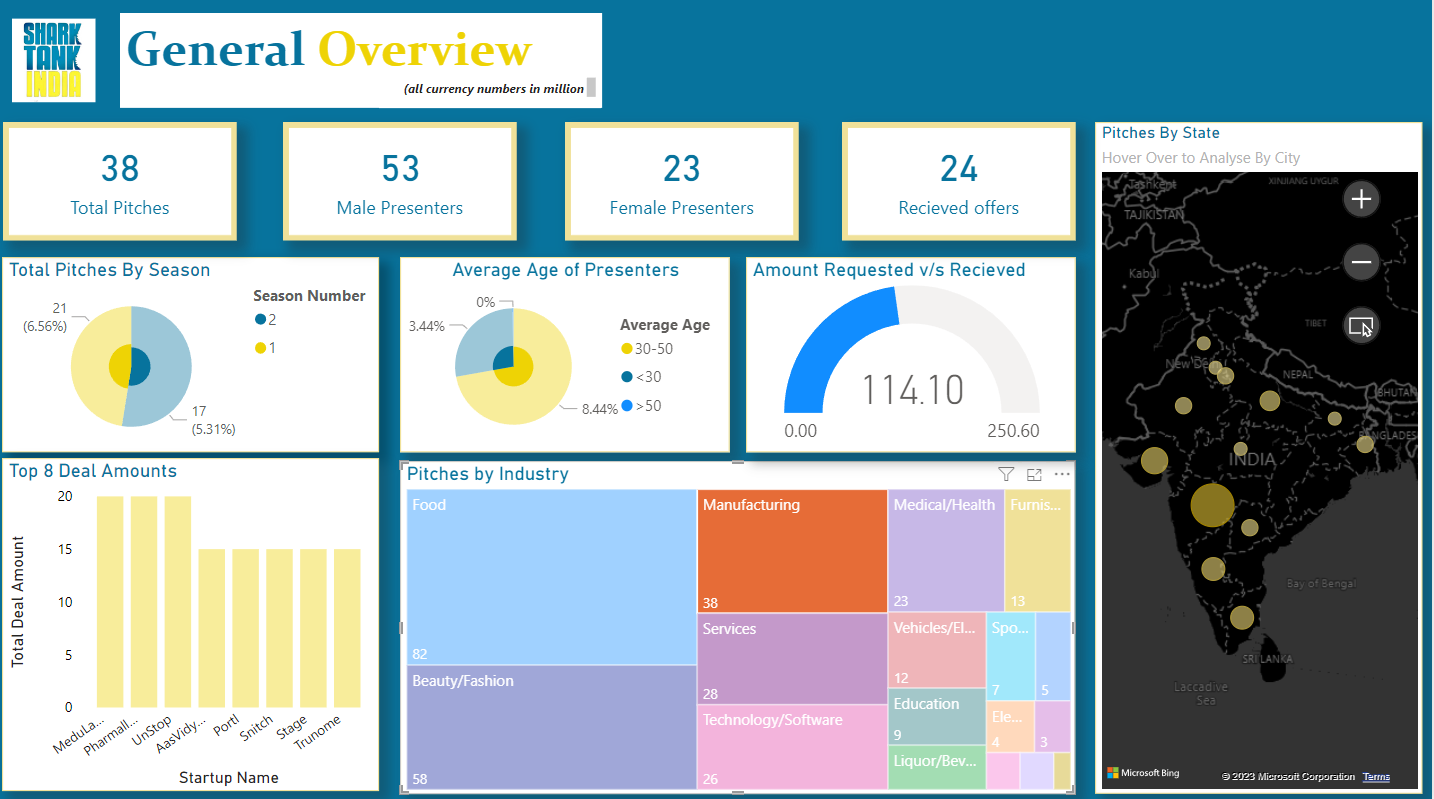

The dashboard page shown, as its layout file describes it:
{"tool":"powerbi","page":{"name":"General Overview","canvas":[1280,720],"ordinal":0},"visuals":[{"type":"map","title":"Pitches By State","fields":{"Category":["Report 1.Pitchers State"],"Size":["CountNonNull(Report 1.Pitch Number)"]},"box":[982.4,117.7,289.8,595.3],"z":0},{"type":"pieChart","title":"Total Pitches By Season","fields":{"Category":["Report 1.Season Number"],"Y":["CountNonNull(Report 1.Pitch Number)"]},"box":[14.6,237.3,333.6,173.1],"z":1000},{"type":"columnChart","title":"Top 8 Deal Amounts","fields":{"Y":["Sum(Report 1.Total Deal Amount)"],"Category":["Report 1.Startup Name"]},"box":[14.2,415.4,333.9,294.9],"z":2000},{"type":"advanceCardE03760C5AB684758B56AA29F9E6C257B","fields":{"mainMeasure":["Sum(Report 1.Male Presenters)"]},"box":[262.6,117.7,207.2,105],"z":3000},{"type":"advanceCardE03760C5AB684758B56AA29F9E6C257B","fields":{"mainMeasure":["Sum(Report 1.Female Presenters)"]},"box":[512.6,117.7,207.2,105],"z":4000},{"type":"pieChart","title":"Average Age of Presenters","fields":{"Category":["Report 1.Pitchers Average Age"],"Y":["CountNonNull(Report 1.Average Age)"]},"box":[366.7,237.3,291.8,173.1],"z":5000},{"type":"textbox","box":[118.7,21.3,426.9,84.1],"z":6000,"group":"g1"},{"type":"treemap","title":"Pitches by Industry ","fields":{"Values":["CountNonNull(Report 1.Industry)"],"Group":["Report 1.Industry"]},"box":[366.7,418.2,598.2,294.7],"z":6000},{"type":"gauge","title":"Amount Requested v/s Recieved","fields":{"Y":["Sum(Report 1.Total Deal Amount)"],"MaxValue":["Sum(Report 1.Original Ask Amount)"]},"box":[673.1,237.3,291.8,173.1],"z":7000},{"type":"group","id":"g1","title":"Group 2","box":[118.7,21.3,426.9,84.1],"z":8000},{"type":"image","box":[0,21.4,118.7,83.6],"z":9000},{"type":"textbox","box":[348.1,73.6,197.5,31.9],"z":9000,"group":"g1"},{"type":"advanceCardE03760C5AB684758B56AA29F9E6C257B","fields":{"mainMeasure":["CountNonNull(Report 1.Pitch Number)"]},"box":[15.1,117.8,207.2,105.4],"z":10000},{"type":"advanceCardE03760C5AB684758B56AA29F9E6C257B","fields":{"mainMeasure":["Report 1.#offer yes"]},"box":[757.7,117.7,207.2,105],"z":11000}]}

Visuals, with their boxes in screenshot pixels (x1, y1, x2, y2), scaled from the page's 1280x720 canvas onto the 1434x799 screenshot:
"Pitches By State" map: x1=1101, y1=131, x2=1425, y2=791
"Total Pitches By Season" pieChart: x1=16, y1=263, x2=390, y2=455
"Top 8 Deal Amounts" columnChart: x1=16, y1=461, x2=390, y2=788
advanceCardE03760C5AB684758B56AA29F9E6C257B - Sum(Report 1.Male Presenters): x1=294, y1=131, x2=526, y2=247
advanceCardE03760C5AB684758B56AA29F9E6C257B - Sum(Report 1.Female Presenters): x1=574, y1=131, x2=806, y2=247
"Average Age of Presenters" pieChart: x1=411, y1=263, x2=738, y2=455
textbox: x1=133, y1=24, x2=611, y2=117
"Pitches by Industry " treemap: x1=411, y1=464, x2=1081, y2=791
"Amount Requested v/s Recieved" gauge: x1=754, y1=263, x2=1081, y2=455
"Group 2" group: x1=133, y1=24, x2=611, y2=117
image: x1=0, y1=24, x2=133, y2=117
textbox: x1=390, y1=82, x2=611, y2=117
advanceCardE03760C5AB684758B56AA29F9E6C257B - CountNonNull(Report 1.Pitch Number): x1=17, y1=131, x2=249, y2=248
advanceCardE03760C5AB684758B56AA29F9E6C257B - Report 1.#offer yes: x1=849, y1=131, x2=1081, y2=247
